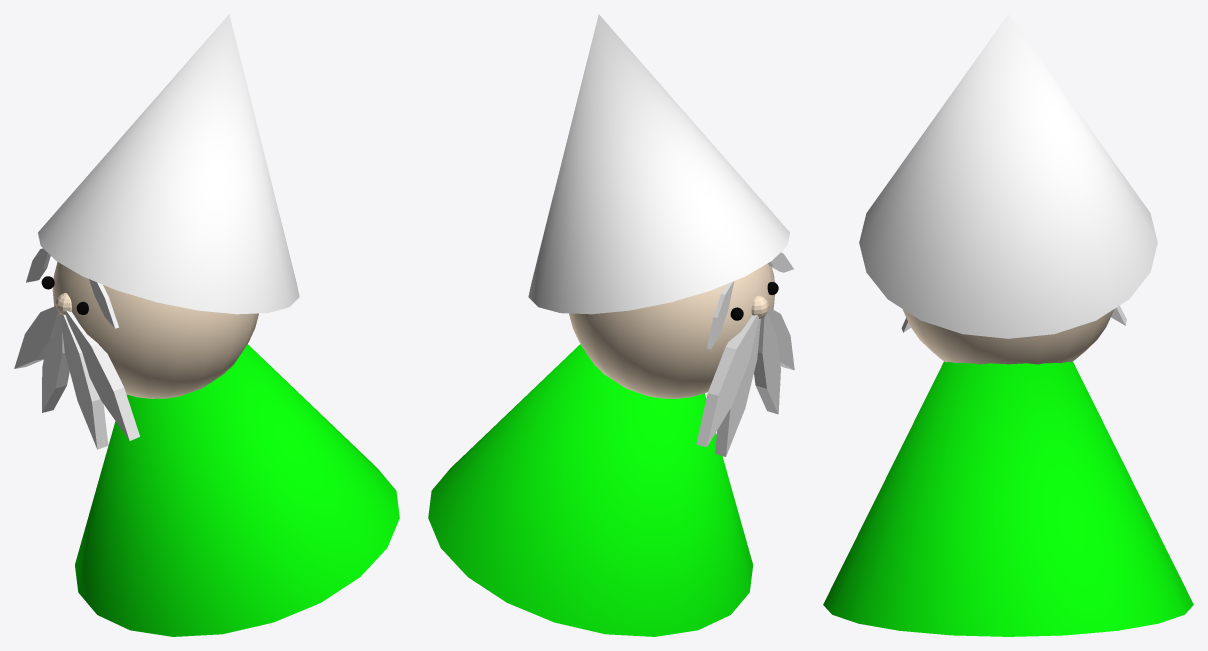
File: wizardNPC.fbx
3 renders of one model, left to right at view 1: azimuth 30°, elevation 25°; view 2: azimuth 150°, elevation 25°; view 3: azimuth 270°, elevation 25°, orthographic. The views are drawn at different scales.
Visible parts, largest first — view 1: pCone1, pCone2, pasted__pasted__pSphere2, pasted__pasted__pPlane2; view 2: pCone1, pCone2, pasted__pasted__pSphere2, pasted__pasted__pPlane2; view 3: pCone1, pCone2, pasted__pasted__pSphere2.
Part boxes in pixels (<box>): pCone1: <box>75,344,399,636</box>; pCone2: <box>38,14,299,314</box>; pasted__pasted__pSphere2: <box>41,262,258,398</box>; pasted__pasted__pPlane2: <box>14,248,139,449</box>; pCone1: <box>428,344,753,636</box>; pCone2: <box>528,14,789,314</box>; pasted__pasted__pSphere2: <box>569,263,778,398</box>; pasted__pasted__pPlane2: <box>696,252,794,456</box>; pCone1: <box>823,361,1193,636</box>; pCone2: <box>859,14,1157,338</box>; pasted__pasted__pSphere2: <box>902,309,1114,364</box>.
Bounding box in the file's own units: 314 × 530 × 283.
